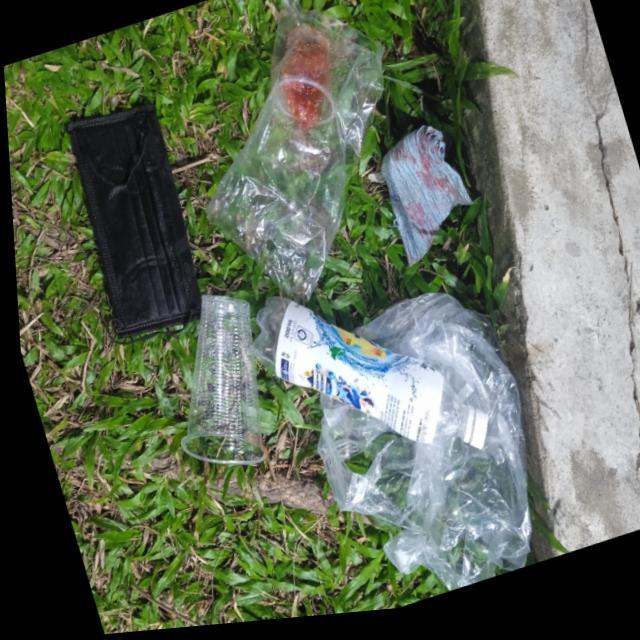cardboard: (45, 72, 218, 376), (356, 105, 496, 278)
leaf: (240, 246, 488, 513), (143, 274, 287, 514)
metal: (276, 283, 554, 622), (166, 0, 430, 318)
